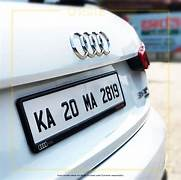number_plate: (21, 76, 131, 134)
